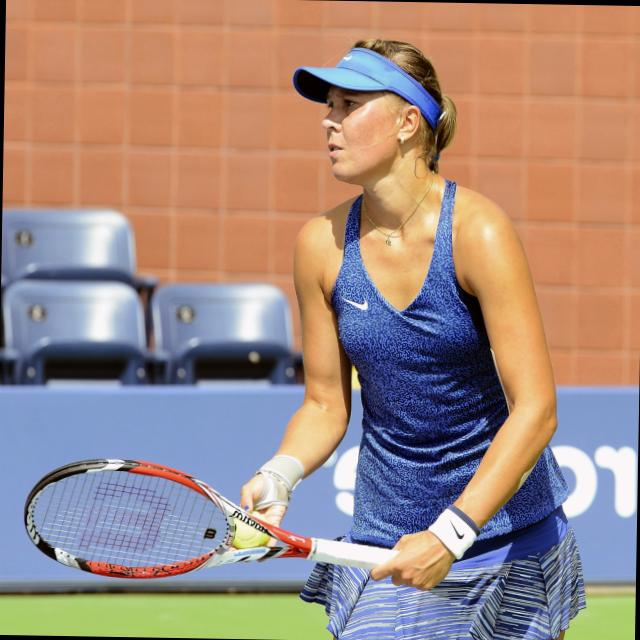Tennis Ball: (231, 517, 271, 547)
